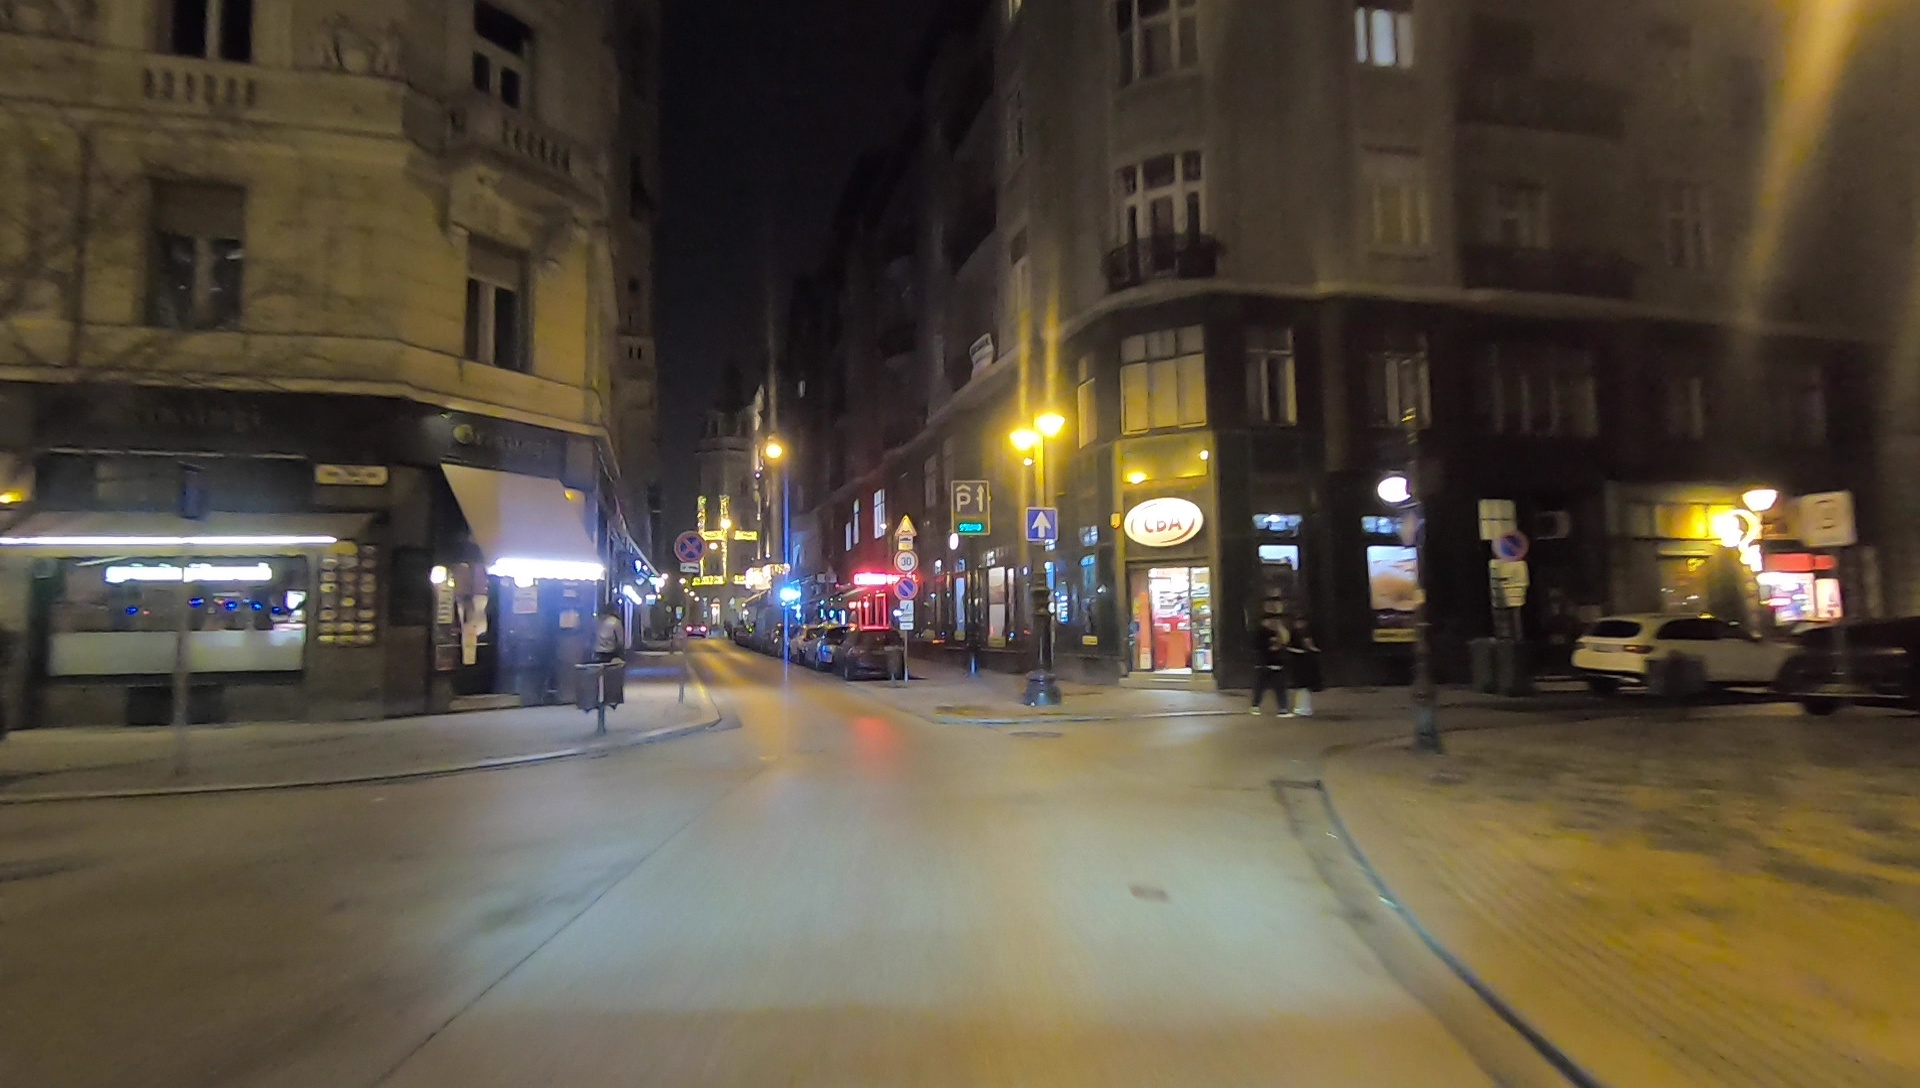person: (1254, 619, 1291, 717), (1288, 617, 1319, 723), (593, 604, 619, 713)
